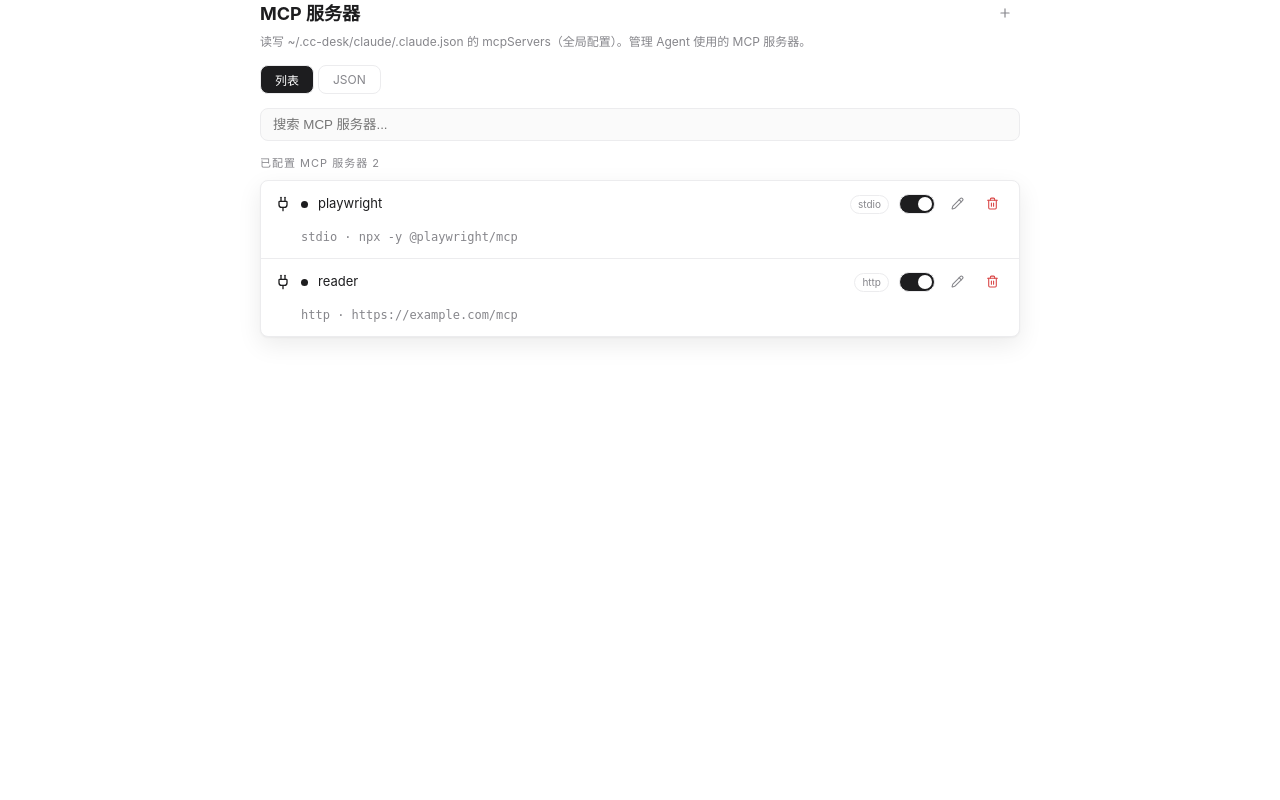
McpSettings › 添加 MCP 只打开编辑弹窗，保存前不写入占位项
The image size is (1280, 800).
Check: the text "playwright" is shown, box [318,195,382,211]
Click the button named "添加": x=1005, y=14 [990,2,1020,26]
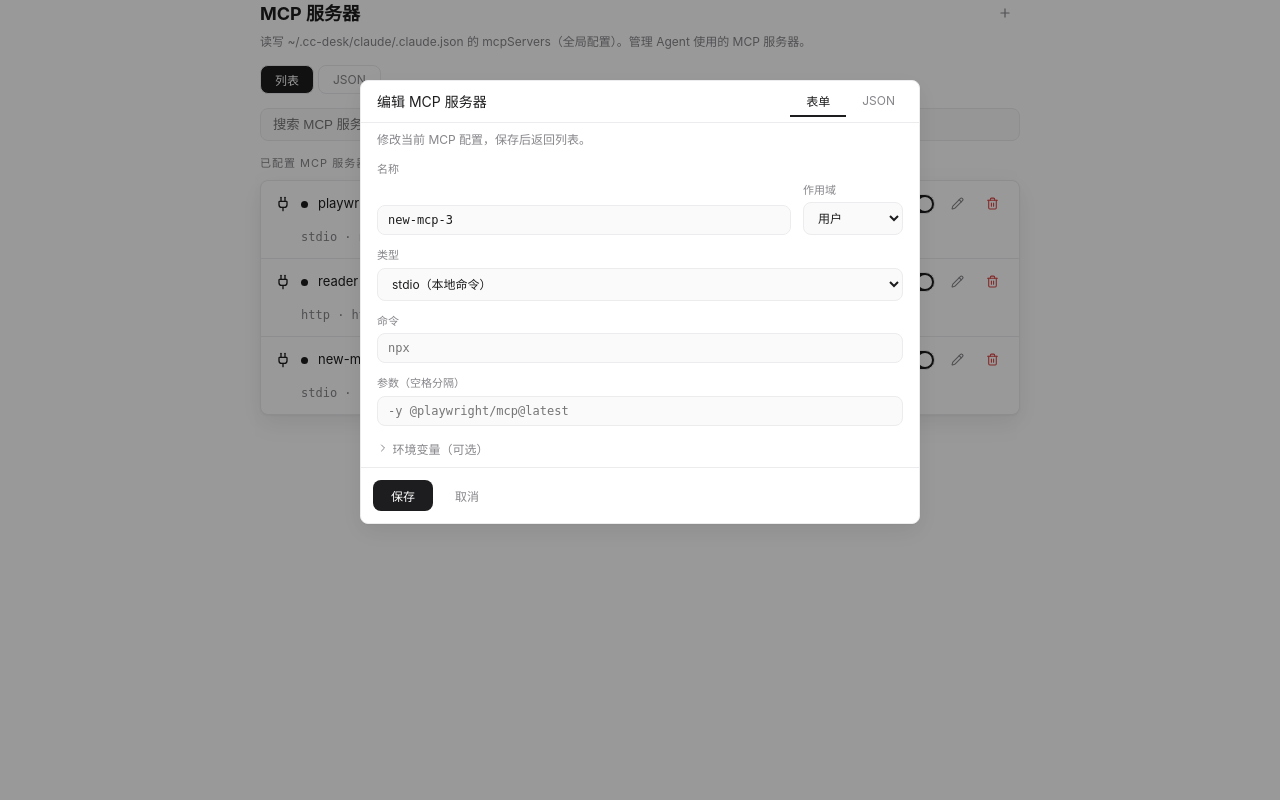
Check: the text "编辑 MCP 服务器" is shown, box [377,93,487,110]
